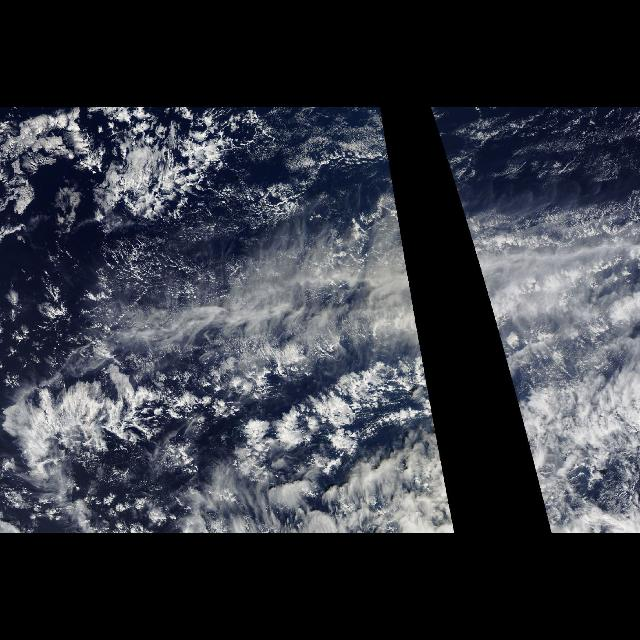Fish: (17, 237, 453, 521), (470, 237, 640, 521)
